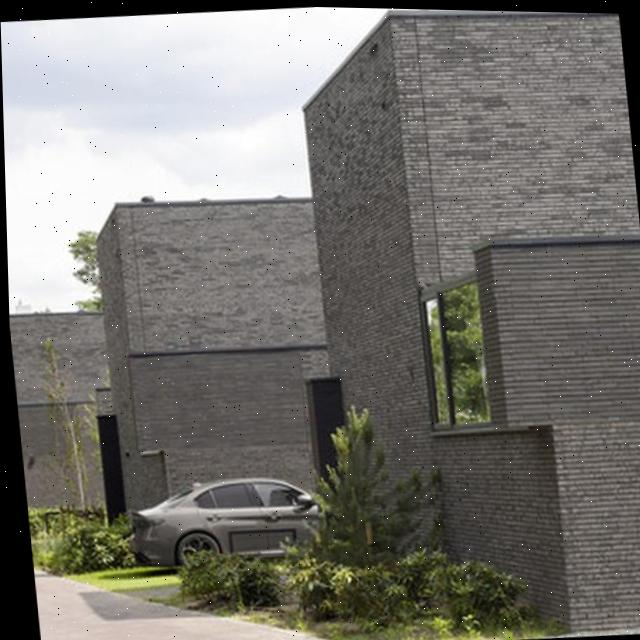building: (289, 6, 640, 640), (89, 186, 356, 548), (9, 296, 125, 531)
